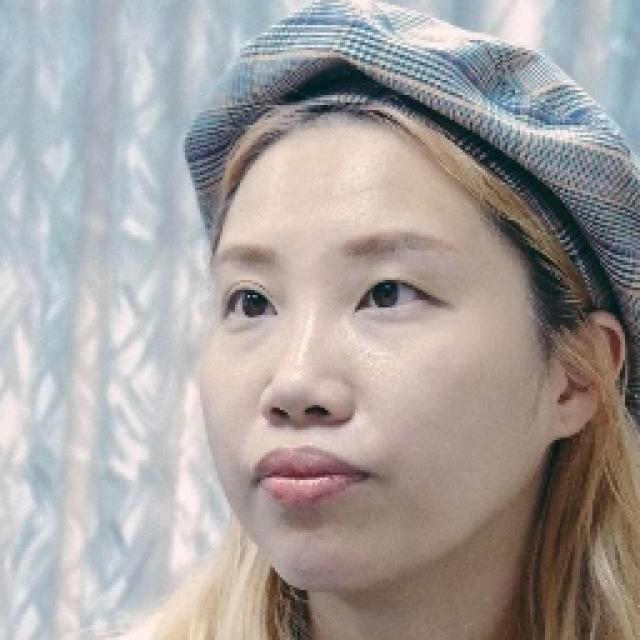earlobe: (546, 312, 626, 443)
